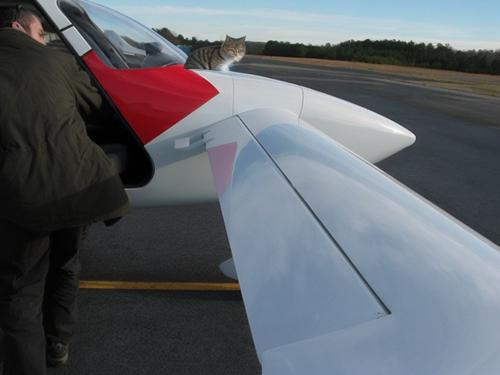aeroplane: (1, 4, 493, 375)
cat: (185, 36, 245, 70)
person: (1, 14, 125, 375)
person/foot: (46, 340, 71, 366)
person/head: (1, 5, 47, 47)
